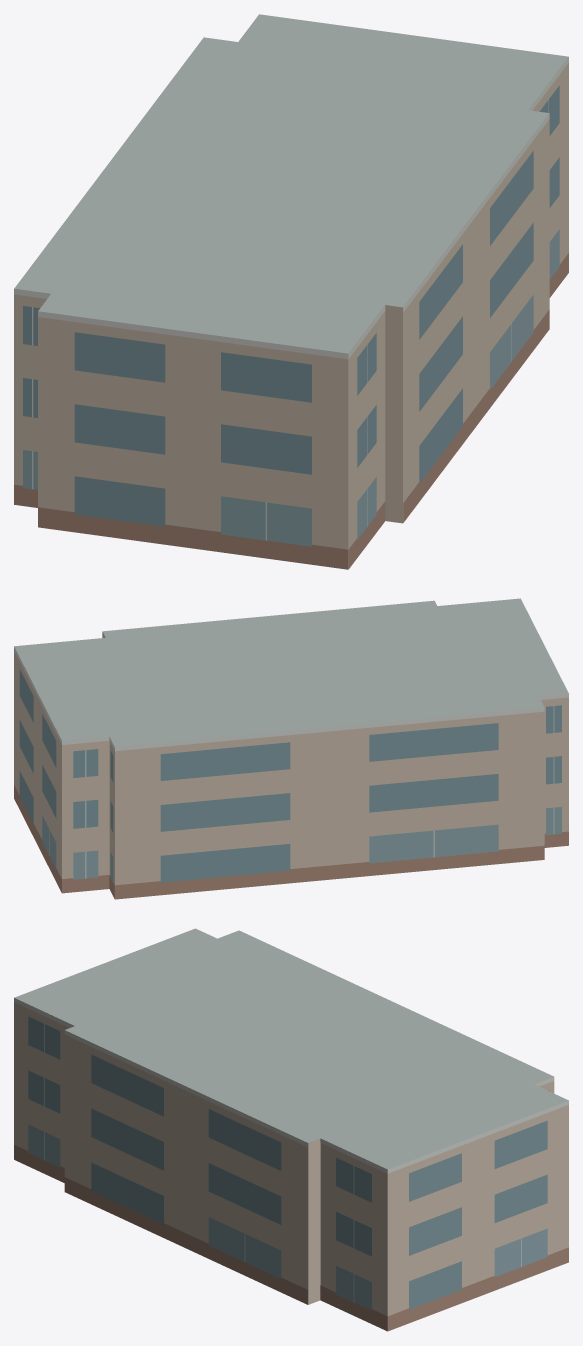
File: survey-upis-32827165.glb
3 renders of one model, top to bottom at view 1: azimuth 30°, elevation 25°; view 2: azimuth 150°, elevation 25°; view 3: azimuth 270°, elevation 25°, orthographic. The views are drawn at different scales.
Parts seen in each view (by area): view 1: survey-upis-32827165.tmp; view 2: survey-upis-32827165.tmp; view 3: survey-upis-32827165.tmp.
Part boxes in pixels (x1=…): survey-upis-32827165.tmp: x1=14, y1=14, x2=568, y2=569; survey-upis-32827165.tmp: x1=14, y1=598, x2=568, y2=899; survey-upis-32827165.tmp: x1=14, y1=928, x2=568, y2=1331.
Bounding box in the file's own units: 29.21 × 9.15 × 28.41.
